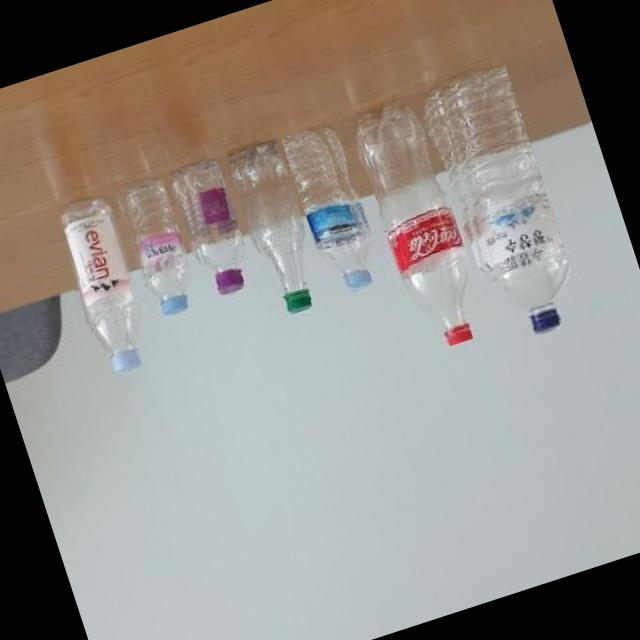plastic bottle: (416, 64, 586, 346), (348, 94, 496, 353), (46, 190, 162, 378), (280, 118, 390, 300), (222, 137, 329, 319), (109, 178, 202, 320), (166, 156, 256, 298)
